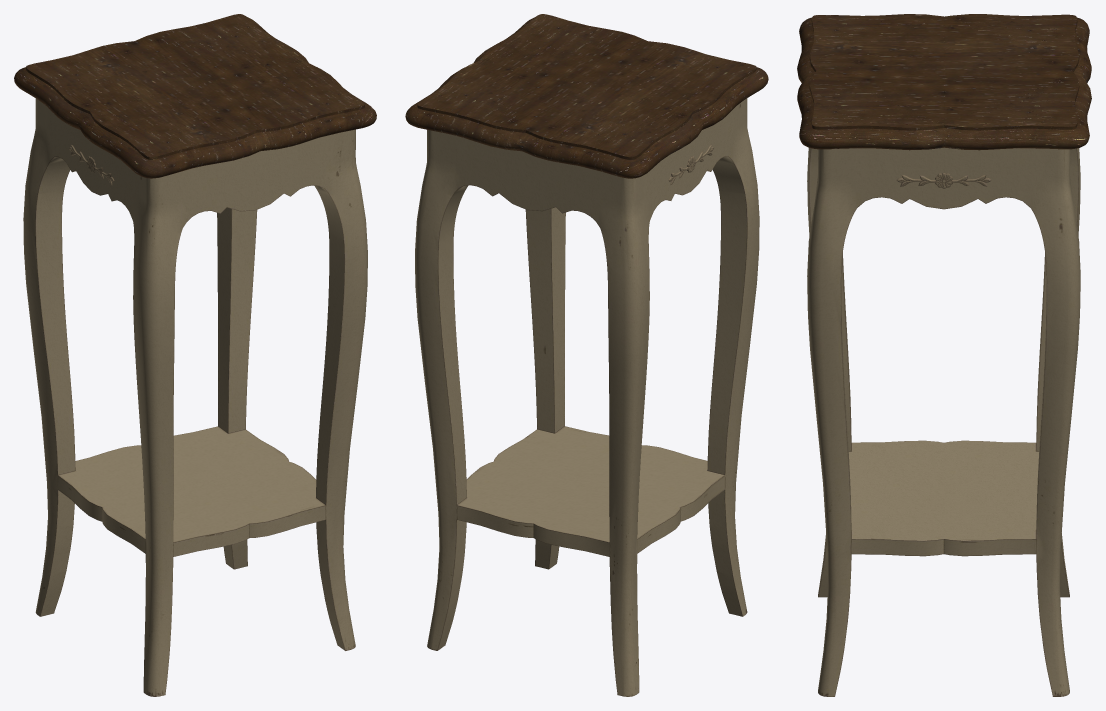
Rendered from example142.glb.
3 views of the same model, side by side, from view 1: azimuth 30°, elevation 25°; view 2: azimuth 150°, elevation 25°; view 3: azimuth 270°, elevation 25° (orthographic). The views are drawn at different scales.
Parts seen in each view (by area): view 1: Buffer Layer (×2); view 2: Buffer Layer (×2); view 3: Buffer Layer (×2).
Boxes of the visible parts, box(x1,y1,x2,y2) form: Buffer Layer (×2): box(14, 14, 376, 696); Buffer Layer (×2): box(405, 14, 768, 696); Buffer Layer (×2): box(797, 14, 1091, 696).
Bounding box in the file's own units: 0.45 × 0.9657 × 0.4505.
Materials: 2 (2 with a texture image).
